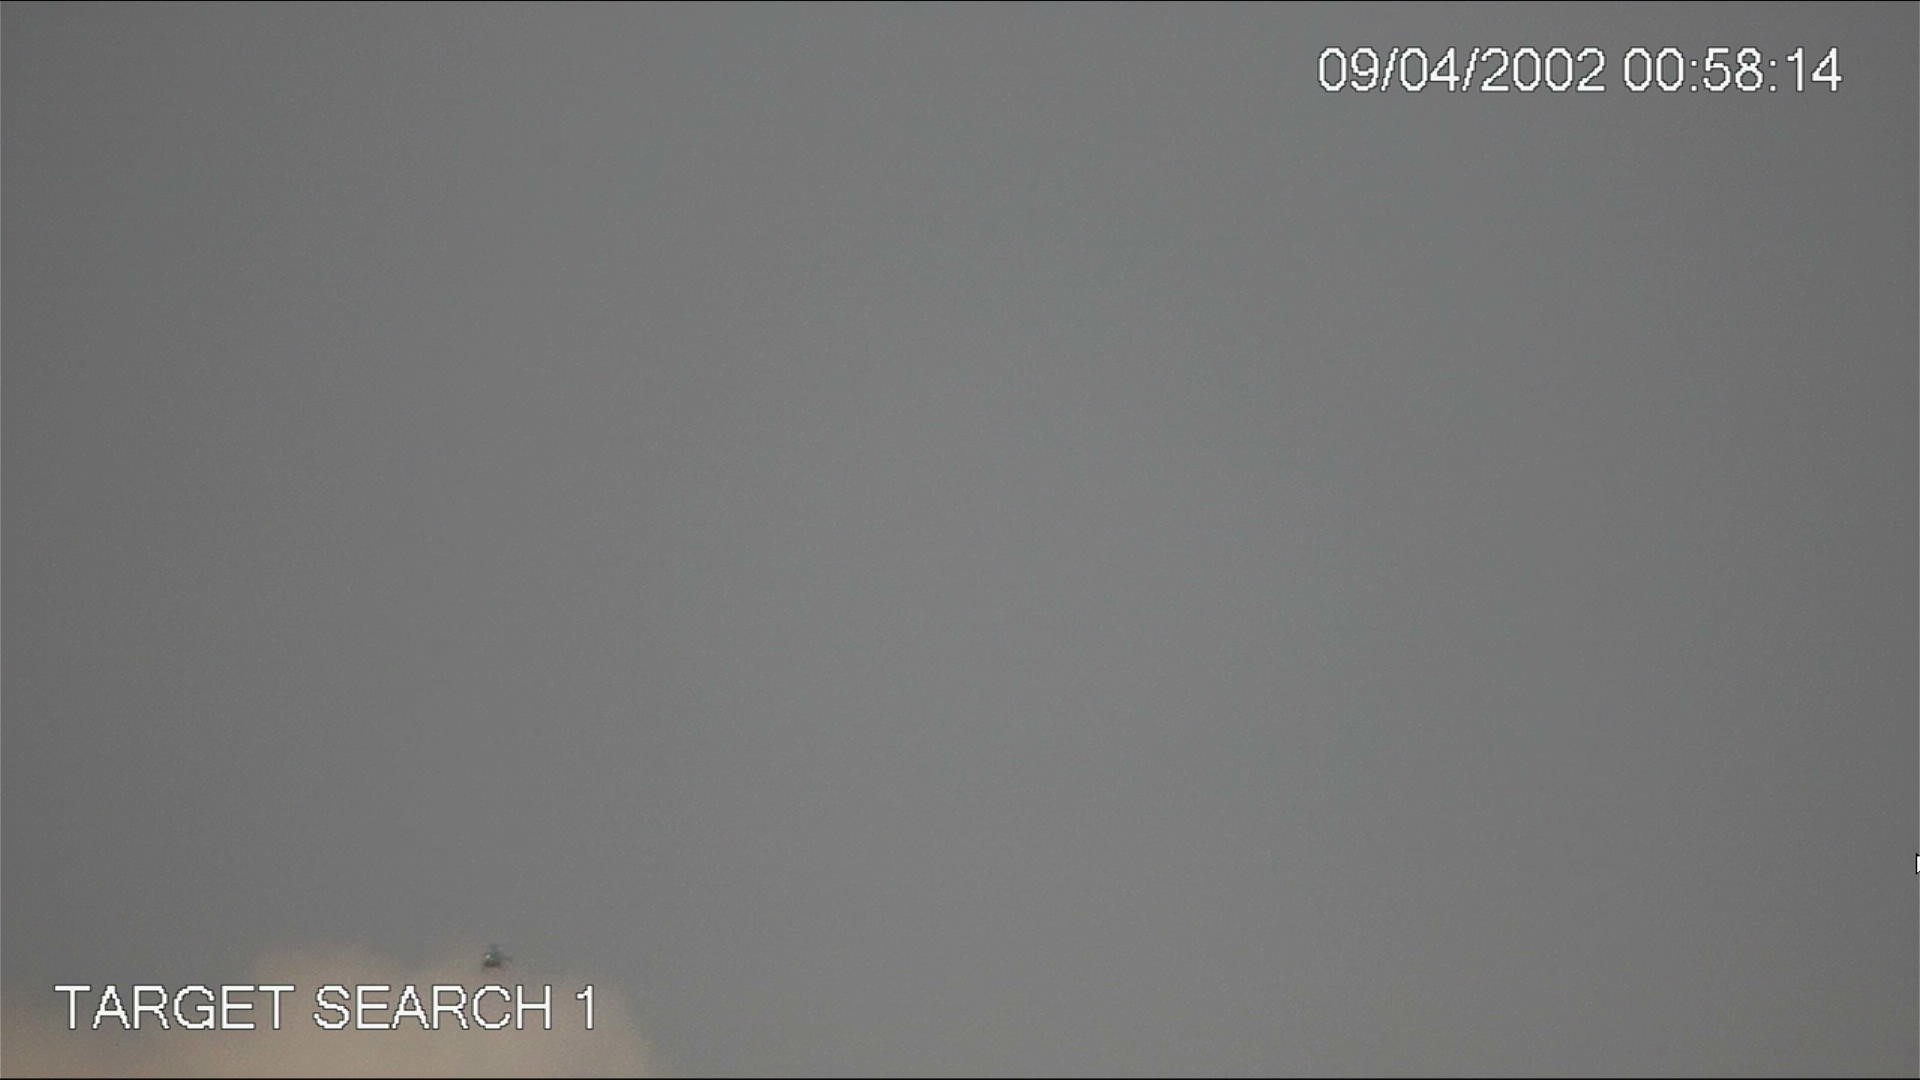SU_30: (481, 945, 502, 971)
